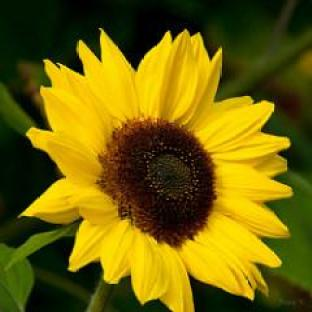sunflower: (18, 29, 295, 312)
